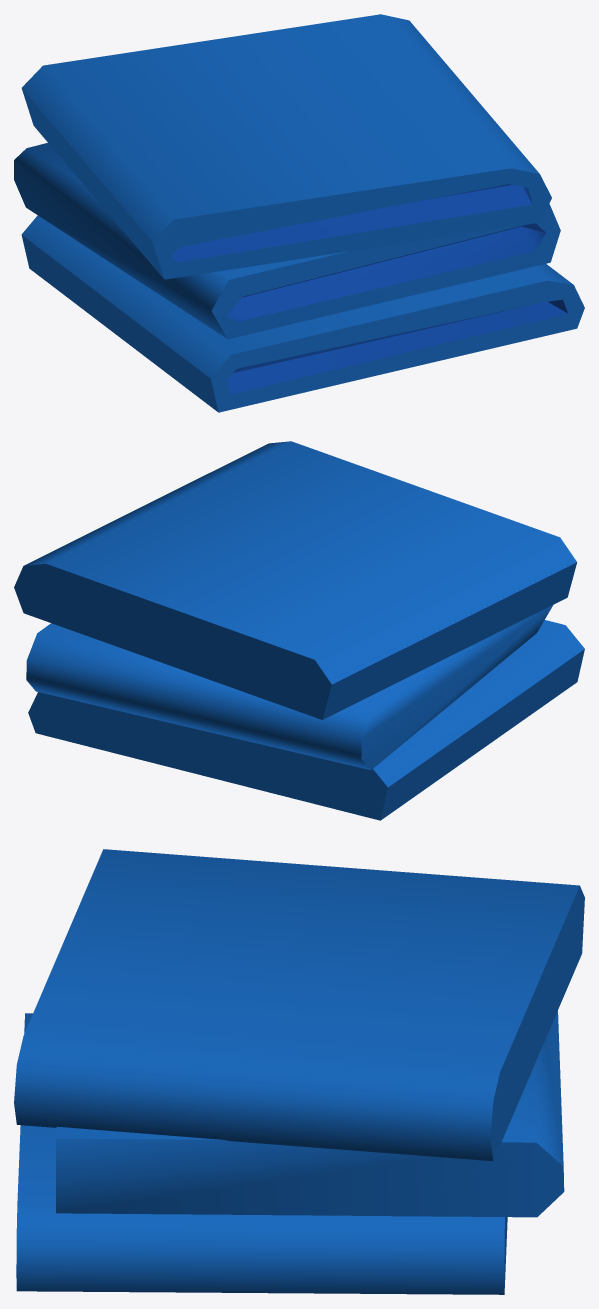
Rendered from clothes_011.fbx.
3 views of the same model, one above another, from view 1: azimuth 30°, elevation 25°; view 2: azimuth 150°, elevation 25°; view 3: azimuth 270°, elevation 25° (orthographic). The views are drawn at different scales.
Visible parts, largest first — view 1: clothes_011; view 2: clothes_011; view 3: clothes_011.
Boxes of the visible parts, bbox=[...] form: clothes_011: bbox=[14, 14, 584, 412]; clothes_011: bbox=[14, 441, 584, 820]; clothes_011: bbox=[14, 849, 584, 1294].
Size of the model in its own units: 44.4 by 41.65 by 17.48.
